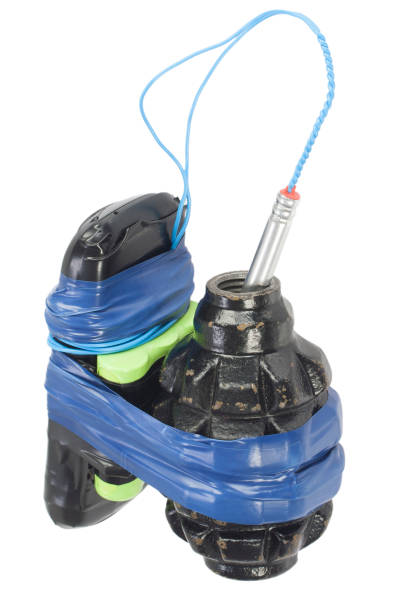e1: (164, 268, 338, 585)
